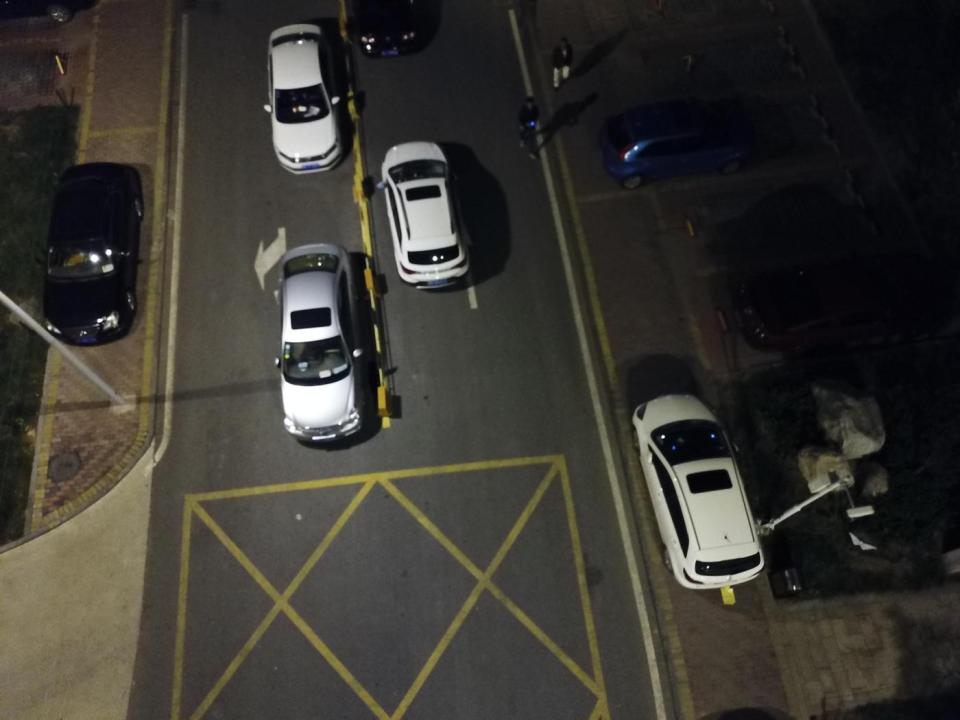car: (629, 391, 766, 592), (734, 253, 931, 356), (42, 162, 144, 347), (275, 242, 366, 443), (598, 102, 757, 190), (376, 140, 469, 290), (262, 21, 345, 175), (350, 0, 420, 59)
